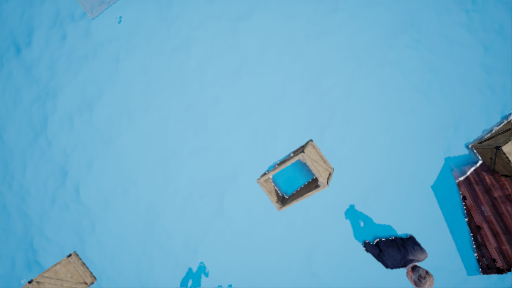person: (339, 209, 439, 285)
